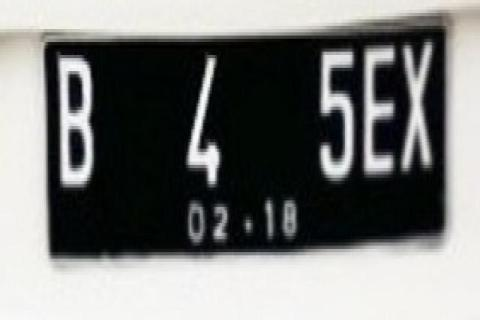LicensePlate: (34, 11, 459, 286)
